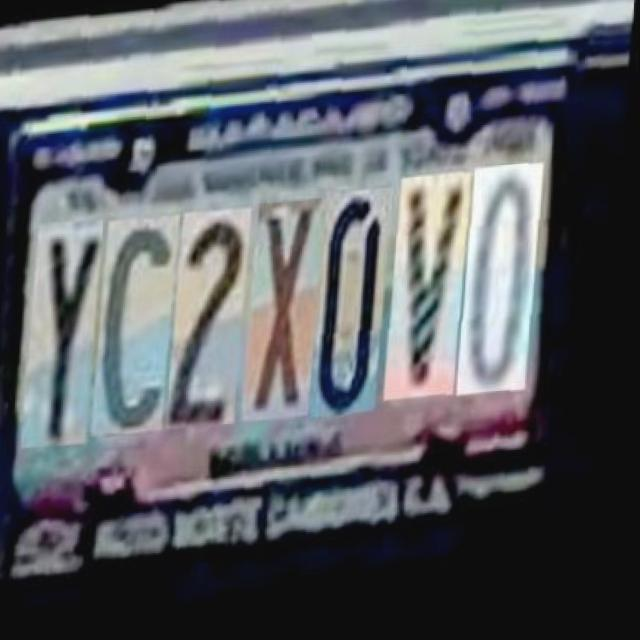0: (314, 187, 394, 417)
2: (171, 209, 252, 430)
c: (97, 216, 179, 437)
o: (461, 163, 544, 396)
v: (390, 172, 472, 401)
x: (247, 199, 326, 421)
y: (26, 219, 104, 448)
